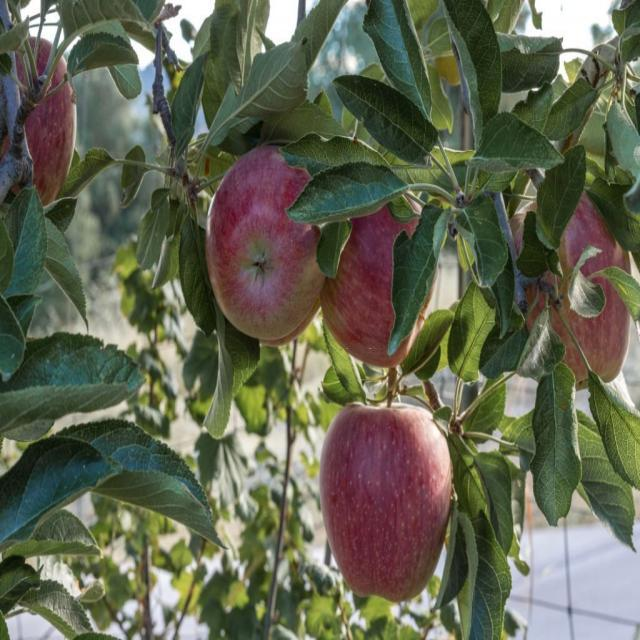Red Apple: (324, 402, 454, 597), (215, 145, 329, 340), (520, 195, 640, 364), (336, 198, 431, 359), (10, 38, 81, 187)
